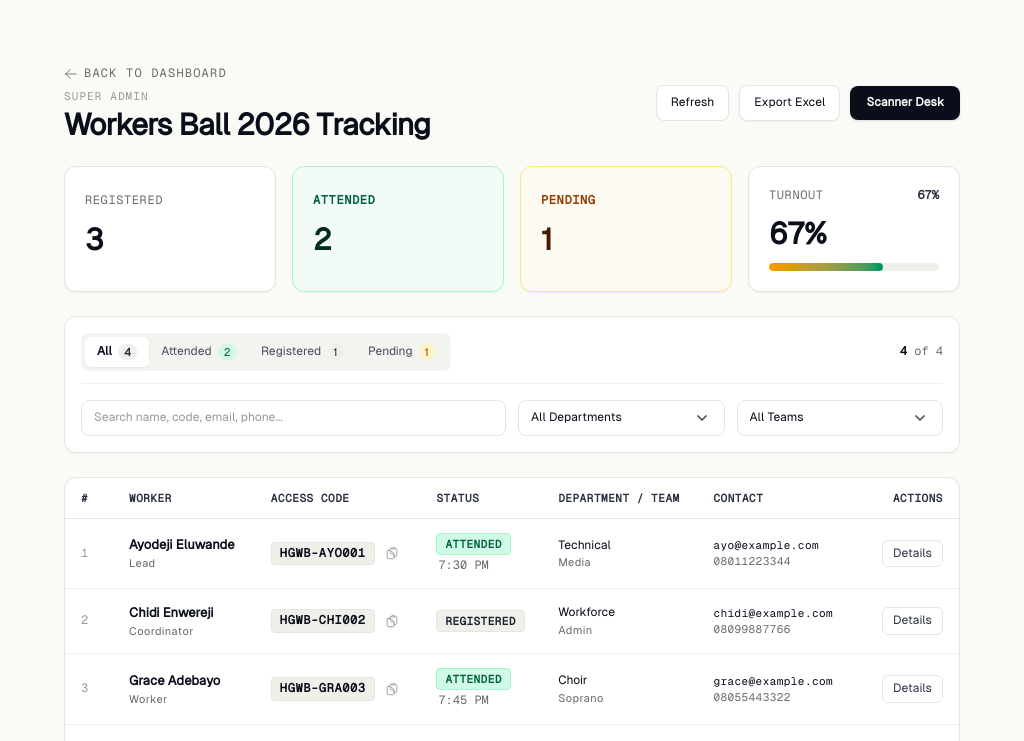
Scenario: WorkersBallAdmin (/admin/workers-ball-registrations) › filters registrations by status tab (Attended vs Registered vs Pending)
Check: the text "Ayodeji Eluwande" is shown, box 129,535 -> 239,555
Note: Click "Pending" tab
Click the button "Pending 1": click(402, 352) 356,337 -> 447,367
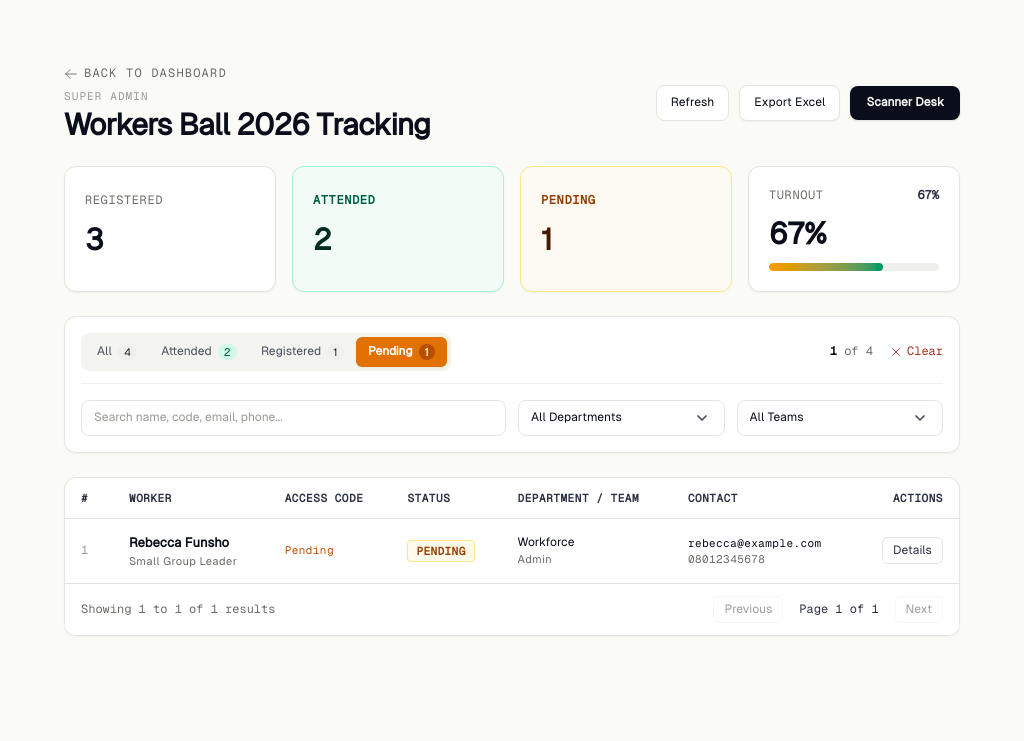
Check: the text "Rebecca Funsho" is shown, box 129,535 -> 229,550
Check: the text "Ayodeji Eluwande" is gone
Check: the text "Chidi Enwereji" is gone
Note: Click "Registered" tab
Click the button "Registered 1": click(302, 352) 249,337 -> 356,367
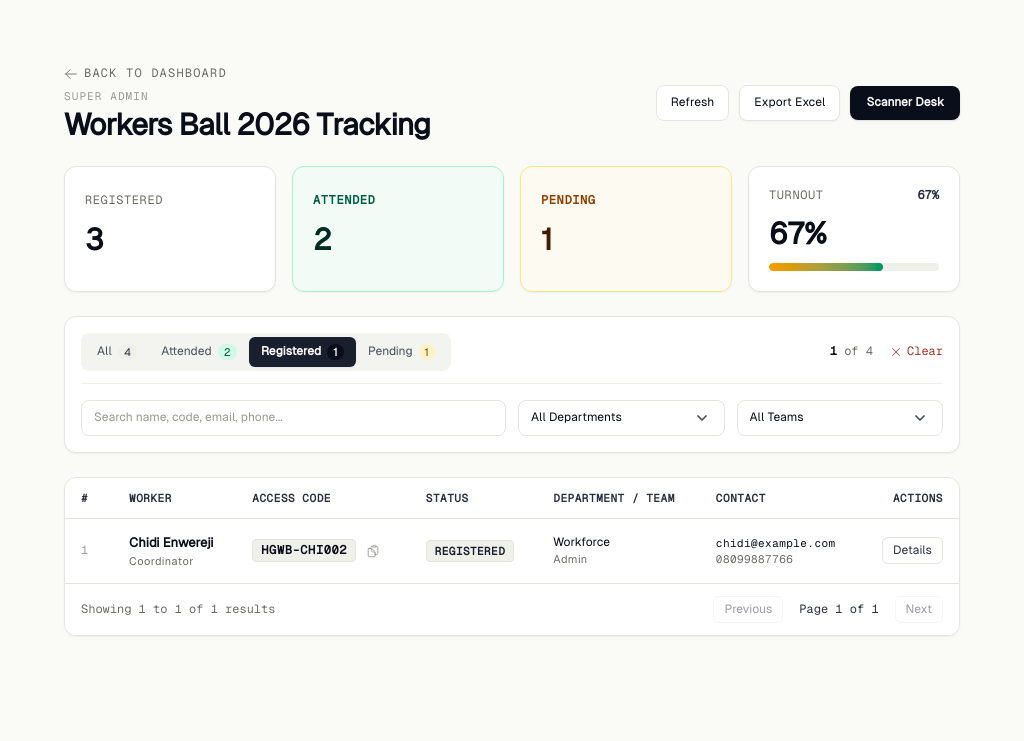
Check: the text "Ayodeji Eluwande" is not shown
Check: the text "Chidi Enwereji" is shown, box 129,533 -> 220,553
Check: the text "Rebecca Funsho" is gone
Note: Click "Attended" tab
Click the button "Attended 2": click(199, 352) 149,337 -> 249,367
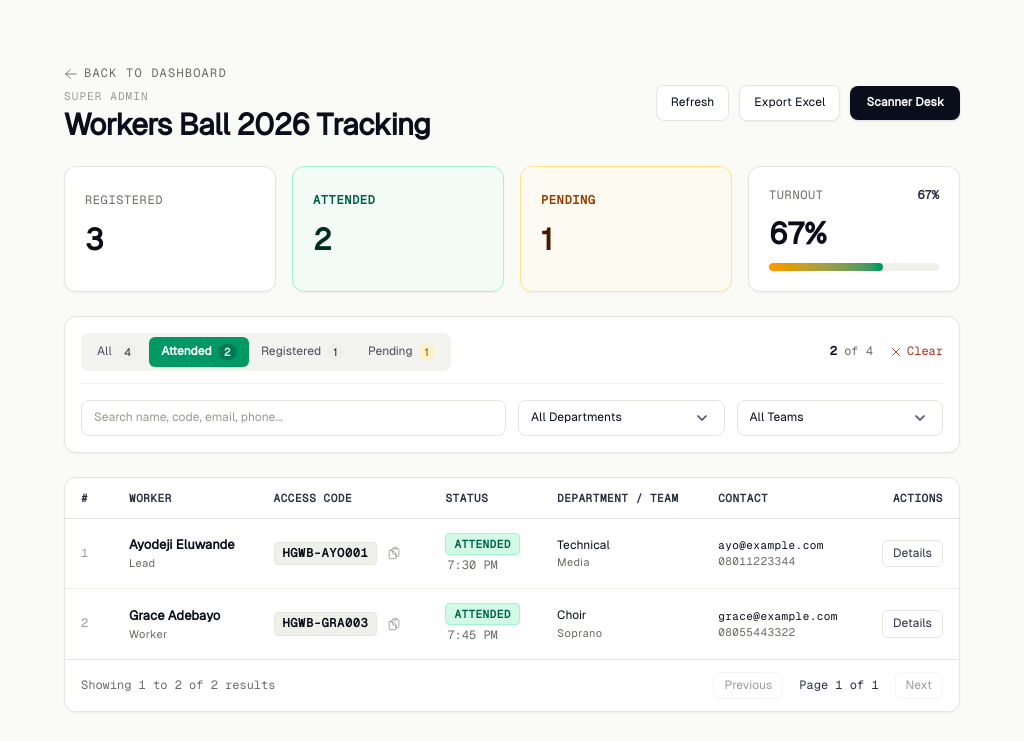
Check: the text "Ayodeji Eluwande" is shown, box 129,535 -> 242,555
Check: the text "Grace Adebayo" is shown, box 129,608 -> 220,623
Check: the text "Chidi Enwereji" is gone
